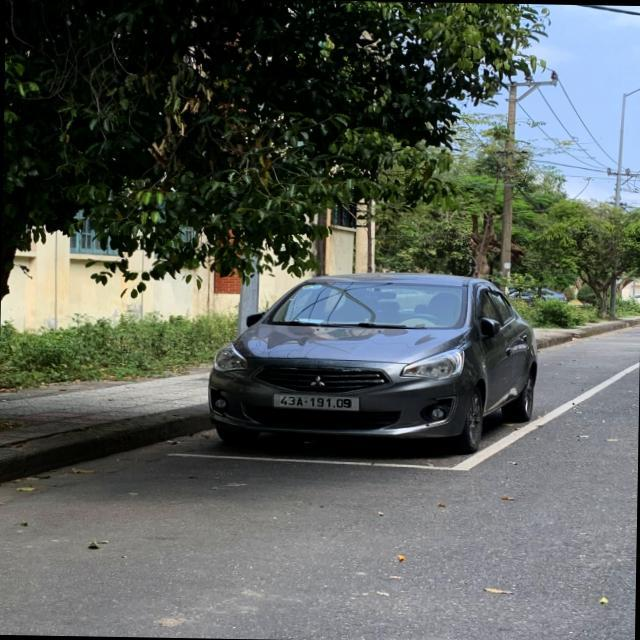car: (211, 270, 544, 463)
plate: (266, 388, 364, 416)
